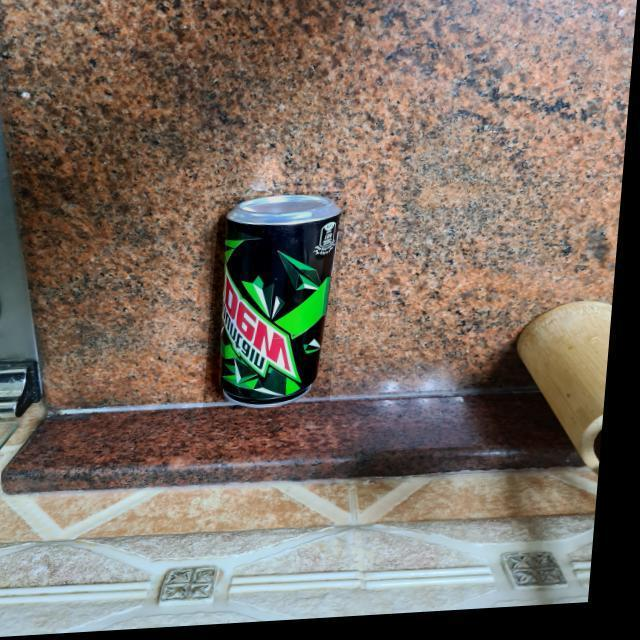trash: (210, 190, 348, 410)
